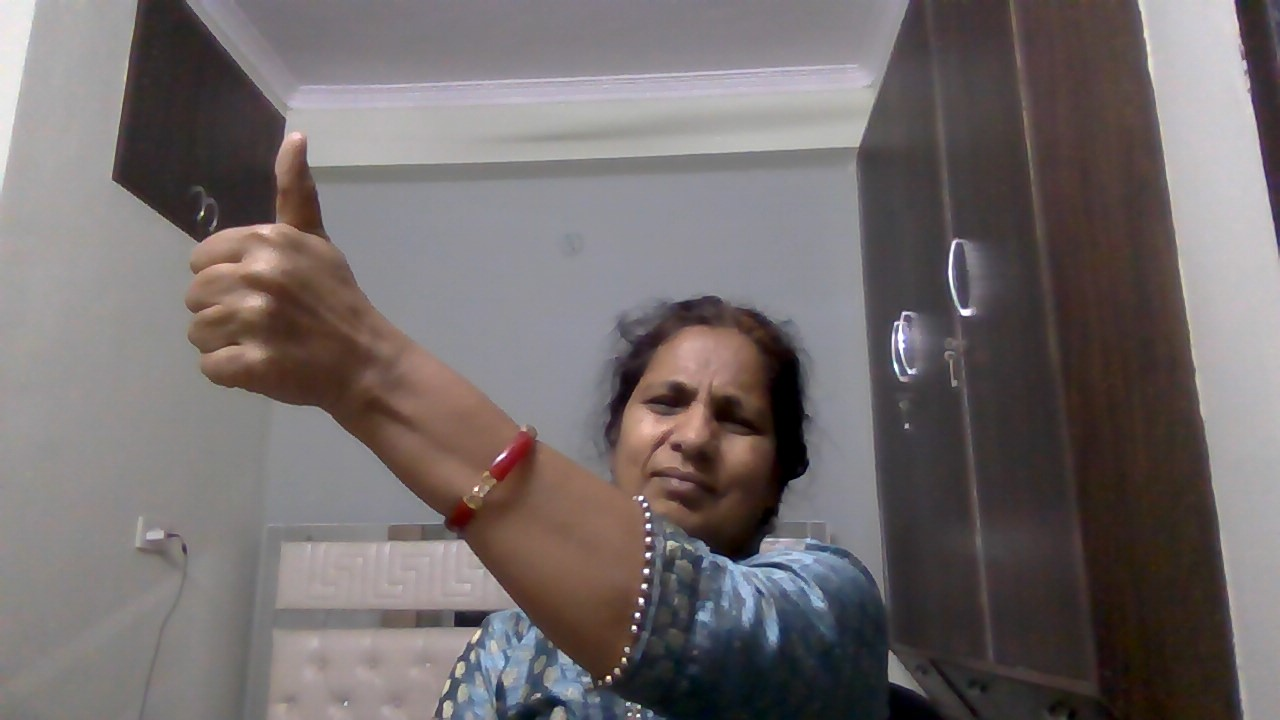Save: (172, 124, 408, 427)
